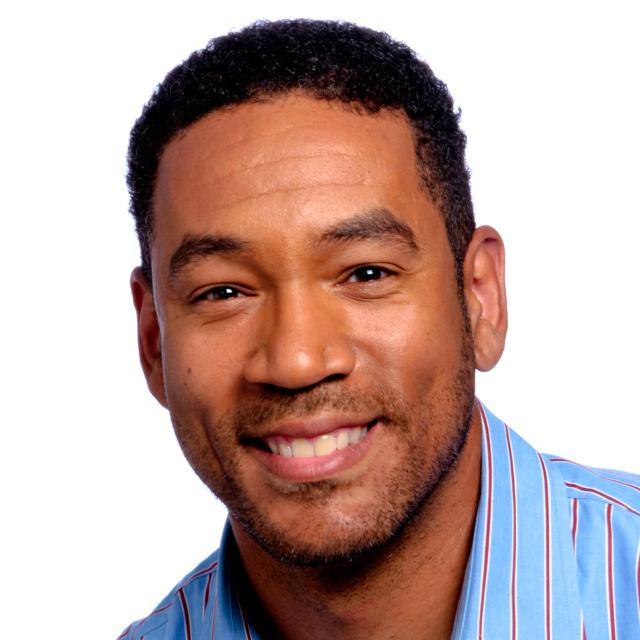front: (136, 220, 481, 532)
